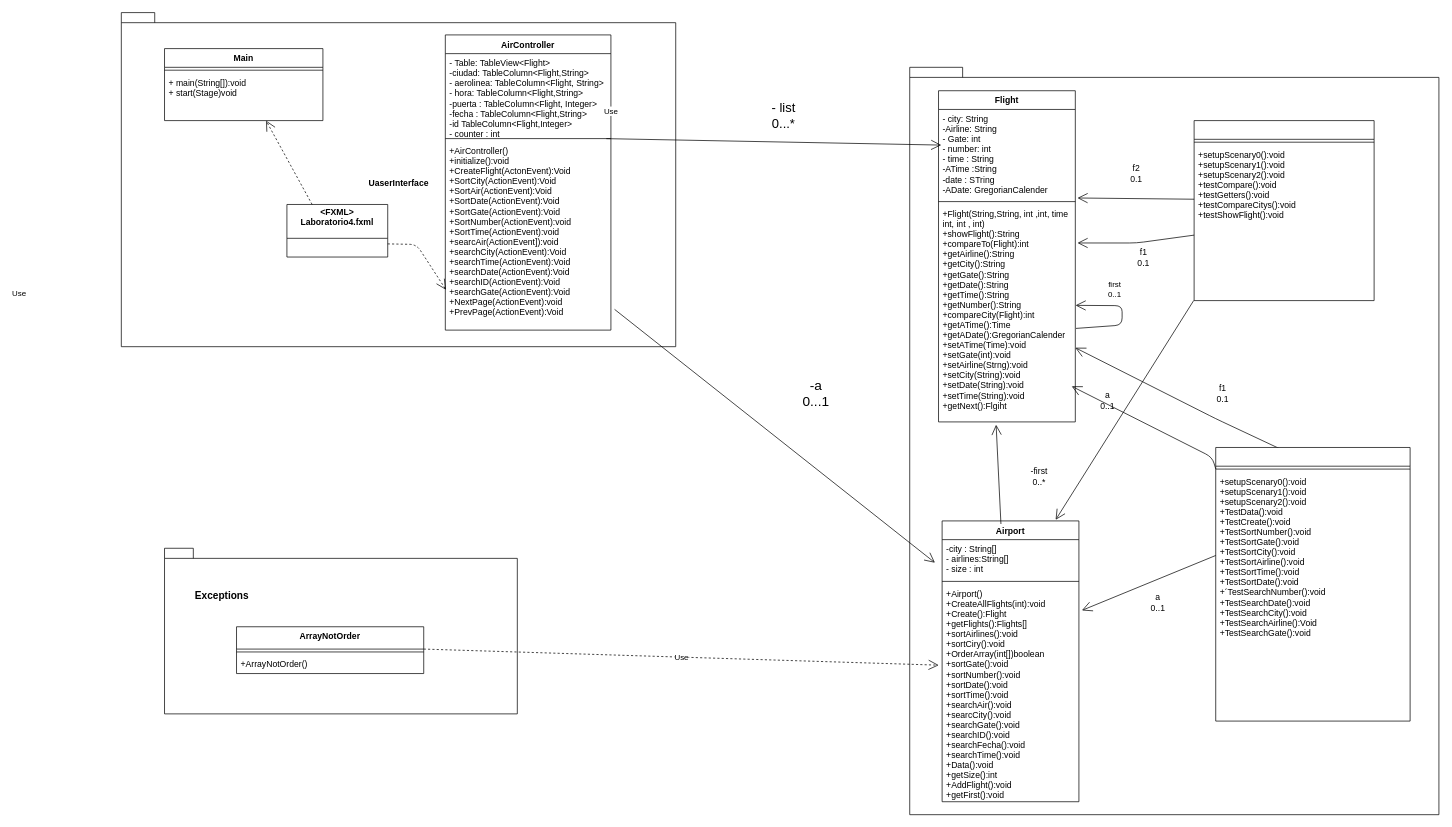
This 1452x827 diagram has some shape labels left out. Each missing label, with the box of its shape:
AirportTest: (1215, 447, 1410, 721)
FlightTestCase: (1193, 120, 1374, 301)
model: (909, 67, 1439, 815)
